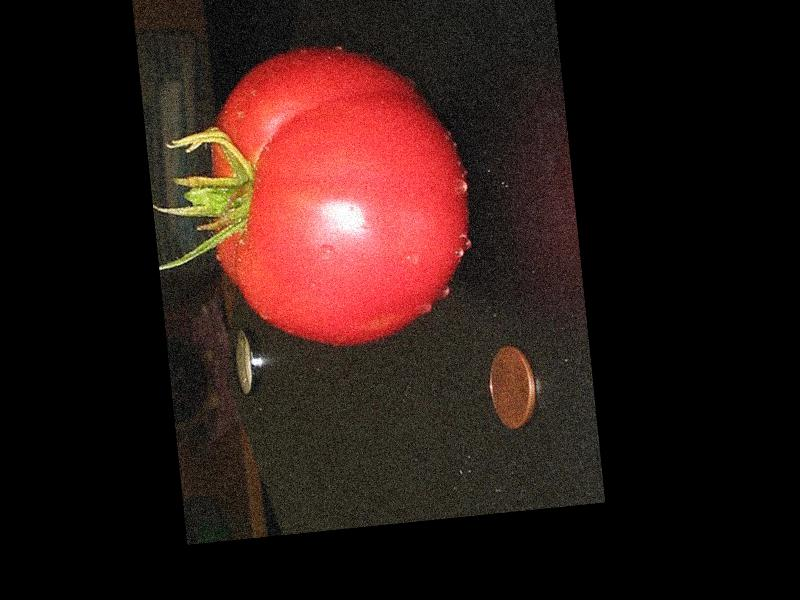Tomato: (195, 31, 482, 356)
